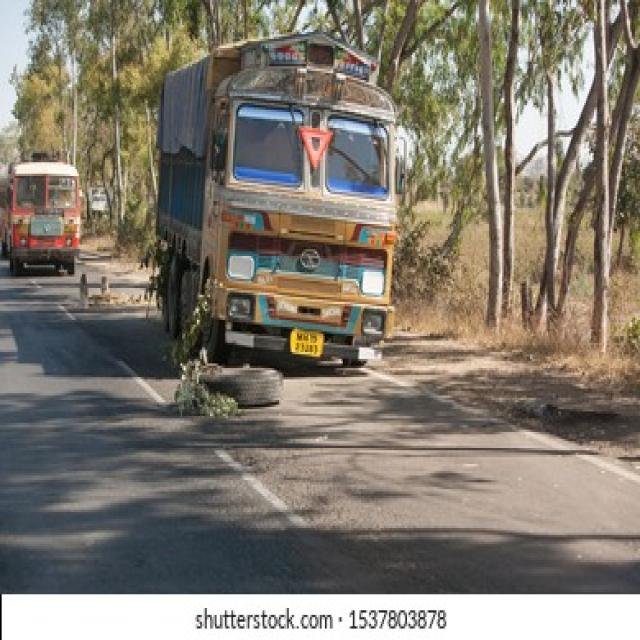bus: (1, 160, 81, 275)
truck: (157, 33, 395, 361)
